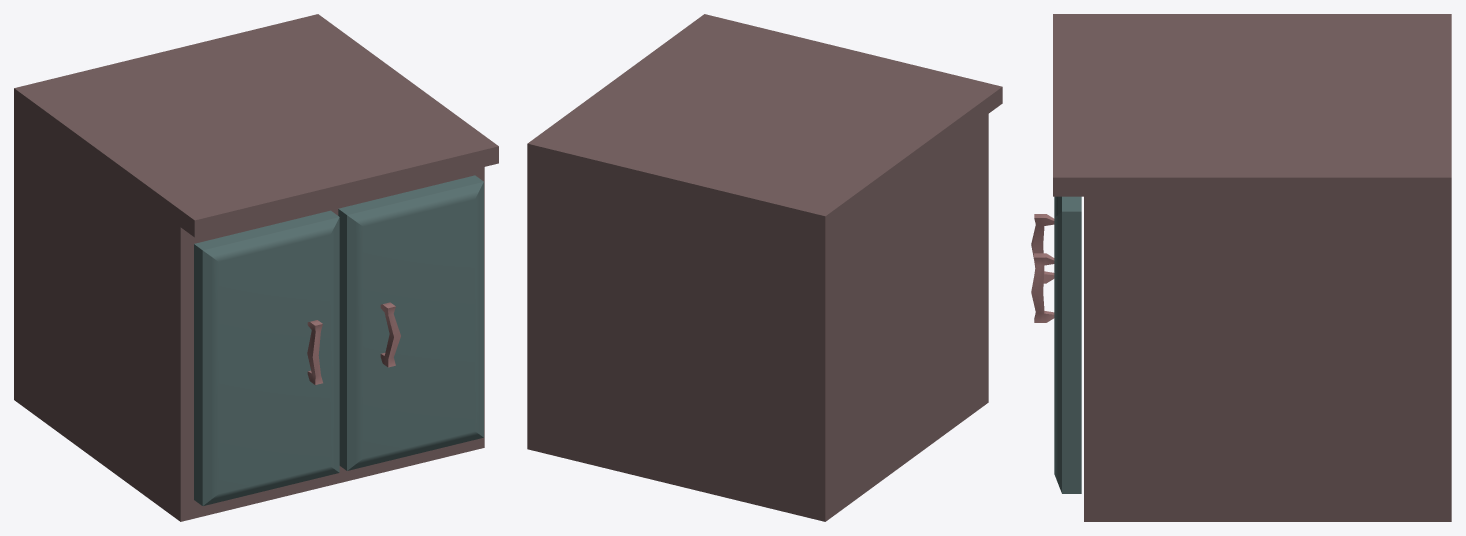
The model's file is counter_1_low.fbx.
3 views of the same model, side by side, from view 1: azimuth 30°, elevation 25°; view 2: azimuth 150°, elevation 25°; view 3: azimuth 270°, elevation 25° (orthographic). The views are drawn at different scales.
Visible parts, largest first — view 1: counter_2_base_low, counter_1_doors_low, counter_handle_low; view 2: counter_2_base_low; view 3: counter_2_base_low, counter_1_doors_low, counter_handle_low.
Part boxes in pixels (left/top/right/bottom): counter_2_base_low: left=14, top=14, right=498, bottom=521; counter_1_doors_low: left=194, top=175, right=483, bottom=505; counter_handle_low: left=307, top=302, right=400, bottom=384; counter_2_base_low: left=527, top=14, right=1002, bottom=521; counter_2_base_low: left=1053, top=14, right=1451, bottom=521; counter_1_doors_low: left=1054, top=196, right=1081, bottom=493; counter_handle_low: left=1031, top=214, right=1054, bottom=322.
Size of the model in its own units: 6.37 by 6.25 by 6.92.
